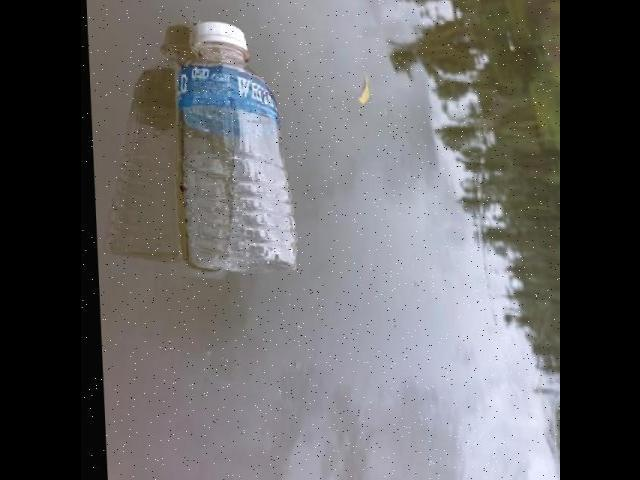Bottle: (170, 14, 305, 280)
